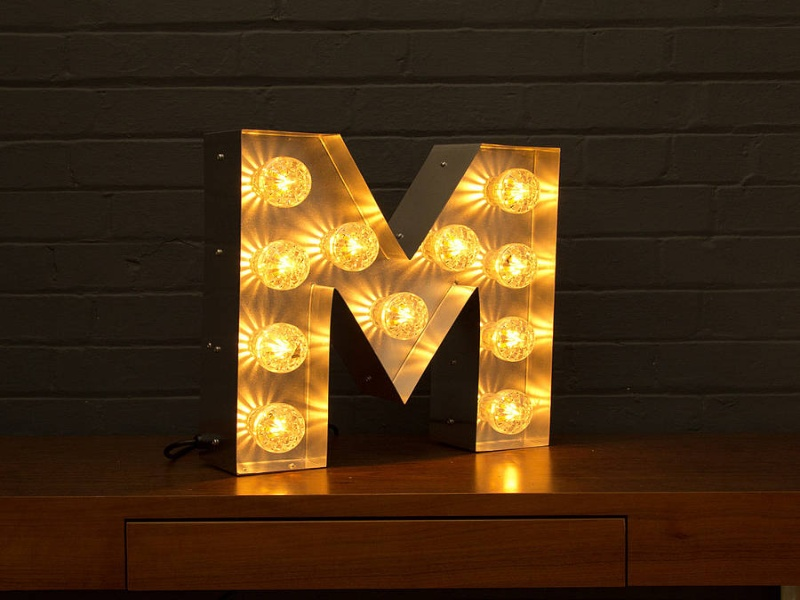letter: (178, 85, 615, 502)
